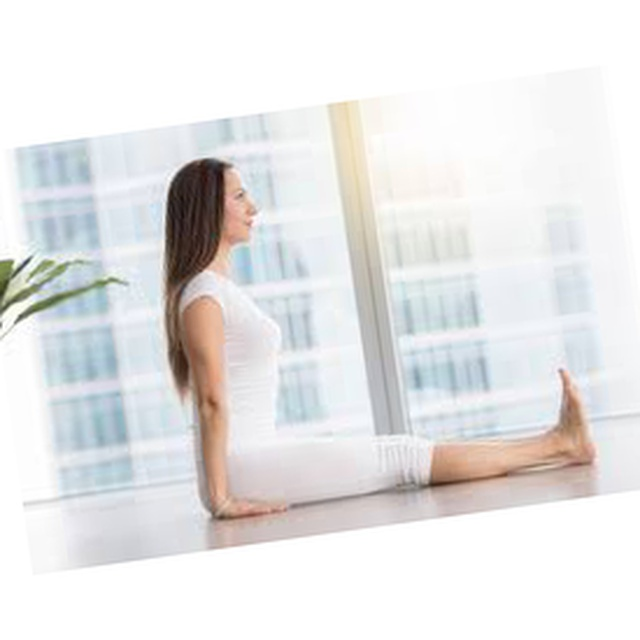Staff_Pose: (163, 158, 598, 521)
